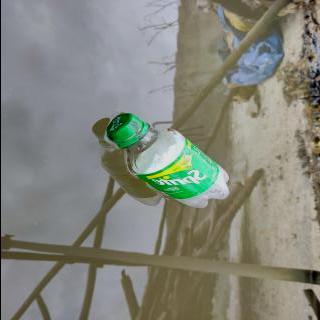bottle: (103, 111, 231, 209)
